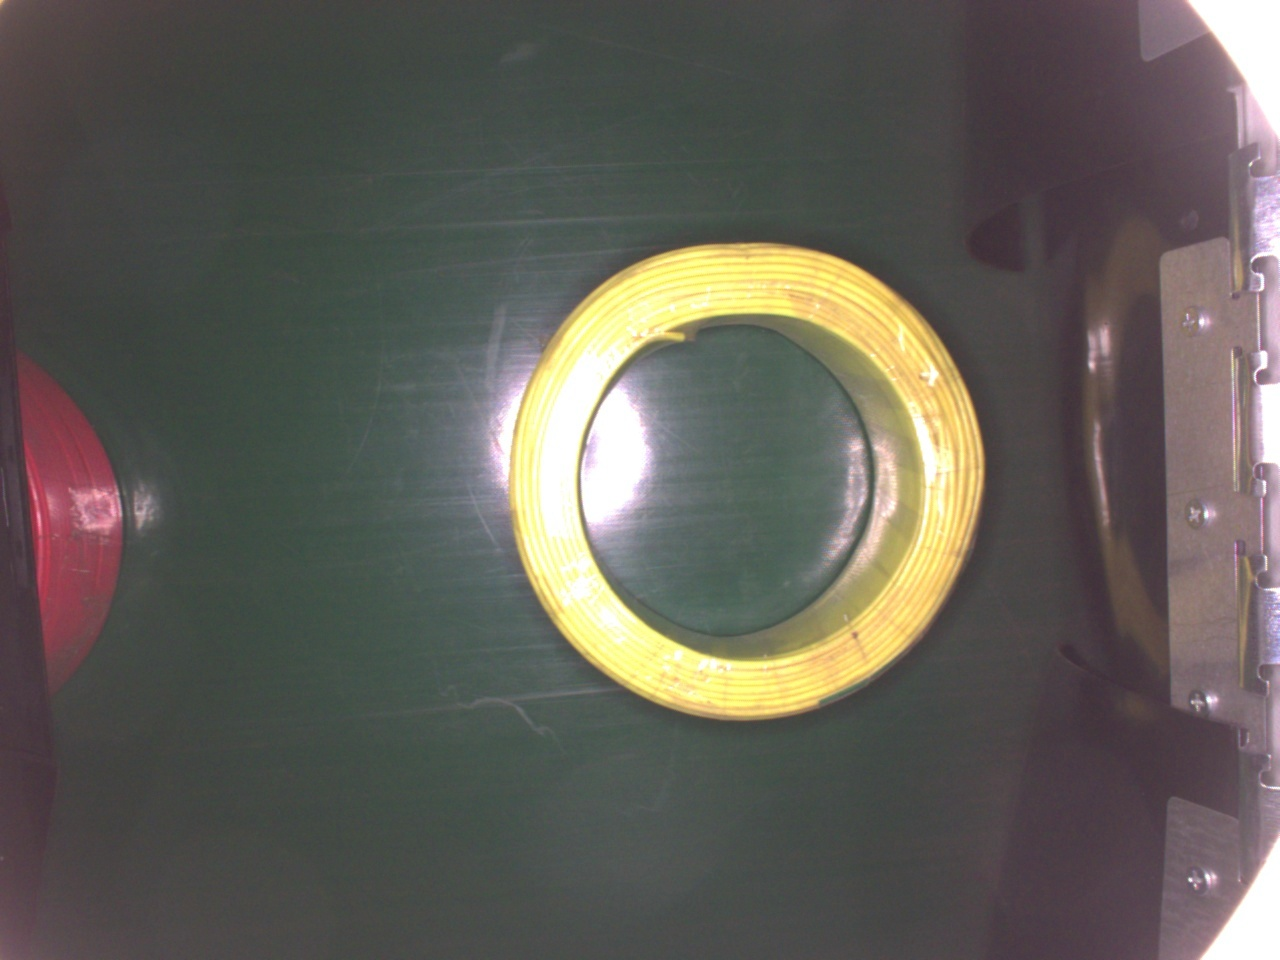yellow: (503, 232, 998, 722)
